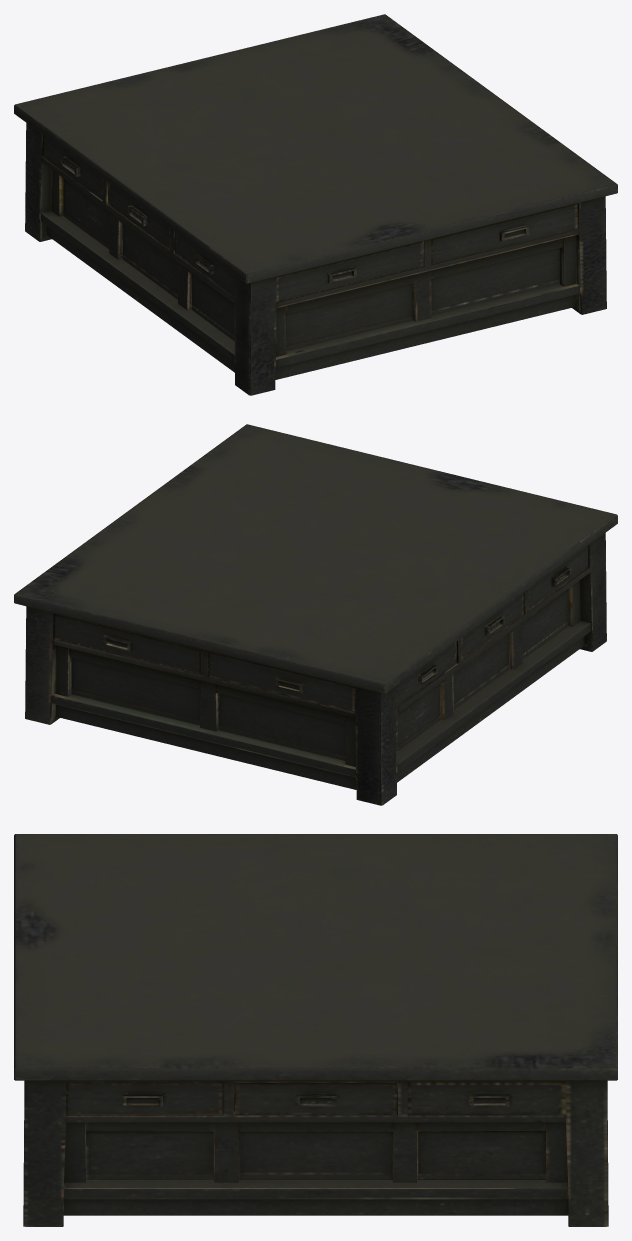
Rendered from P_Message_Desk.fbx.
3 views of the same model, one above another, from view 1: azimuth 30°, elevation 25°; view 2: azimuth 150°, elevation 25°; view 3: azimuth 270°, elevation 25° (orthographic). The views are drawn at different scales.
Parts seen in each view (by area): view 1: P_Message_Desk; view 2: P_Message_Desk; view 3: P_Message_Desk.
Boxes of the visible parts, box(x1,y1,x2,y2) form: P_Message_Desk: box(14, 14, 617, 395); P_Message_Desk: box(14, 424, 617, 805); P_Message_Desk: box(14, 834, 617, 1226).
Size of what is drawn, in the model's own units: 259 by 83.41 by 281.
1 material, 1 textured.
